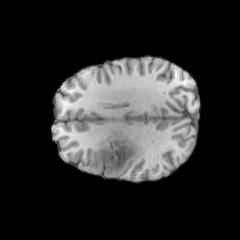glioma: (90, 133, 143, 177)
